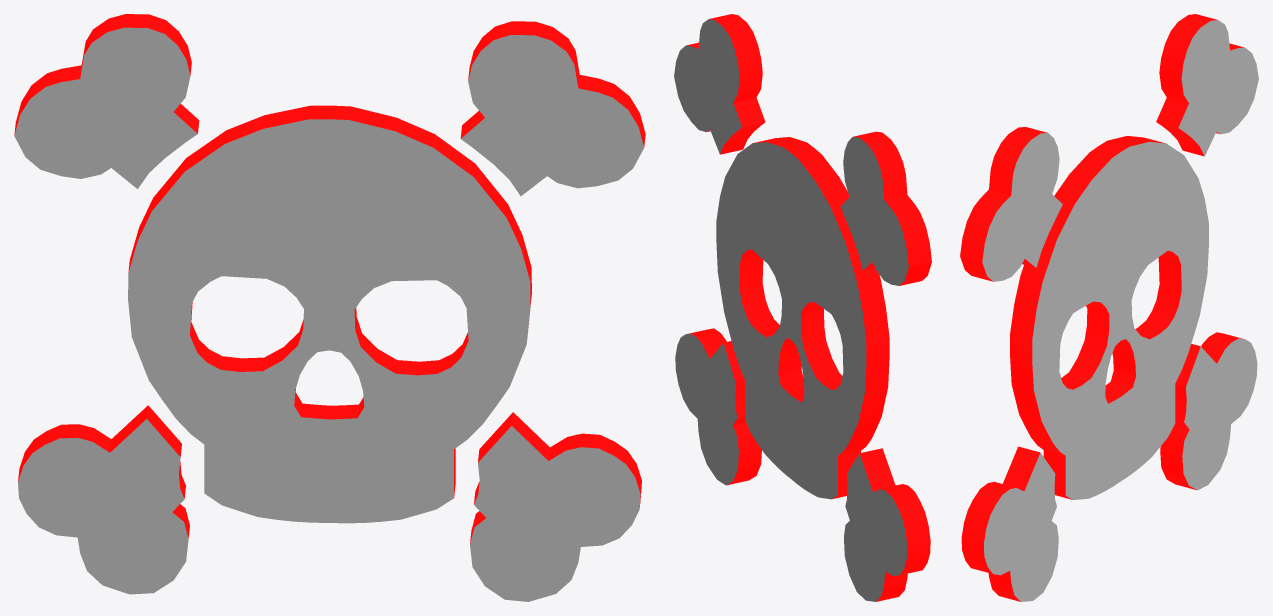
The model's file is Caveira_R01.fbx.
3 views of the same model, side by side, from view 1: azimuth 30°, elevation 25°; view 2: azimuth 150°, elevation 25°; view 3: azimuth 270°, elevation 25° (orthographic). The views are drawn at different scales.
Visible parts, largest first — view 1: pPlane8; view 2: pPlane8; view 3: pPlane8.
Boxes of the visible parts, x1,y1,x2,y2 form: pPlane8: [14, 14, 645, 601]; pPlane8: [674, 14, 931, 601]; pPlane8: [960, 14, 1258, 601].
Size of the model in its own units: 0.6545 by 0.7456 by 0.4368.
